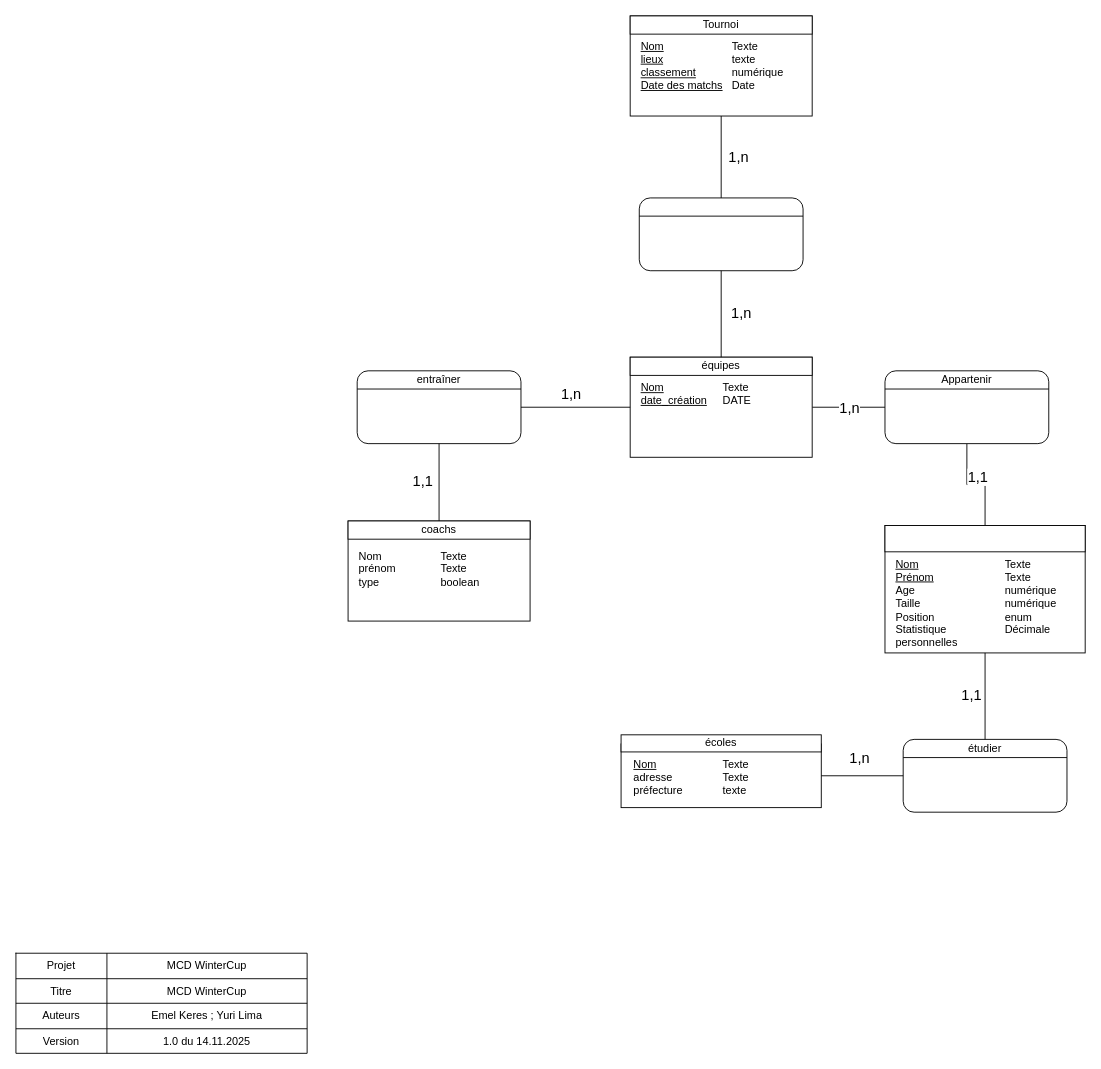
Some shapes in this 1101 by 1069 pixel diagram are drawn without their labels. Here are the shapes that lost their labels. From the top down, the box of each, then its label:
(638, 197, 803, 271): Participer
(884, 525, 1085, 552): joueurs
